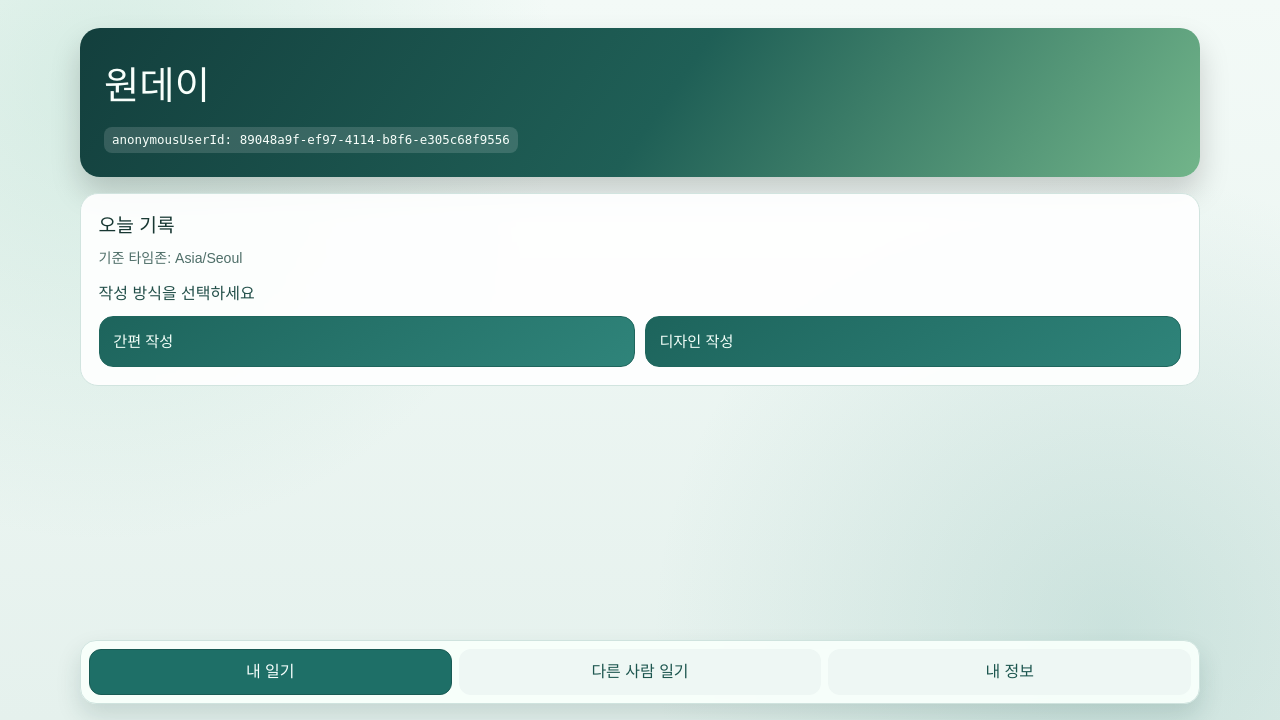
App integration › shows validation message when text is too short
Click the button "간편 작성".
click(143, 341)  # box [99,316,635,367]
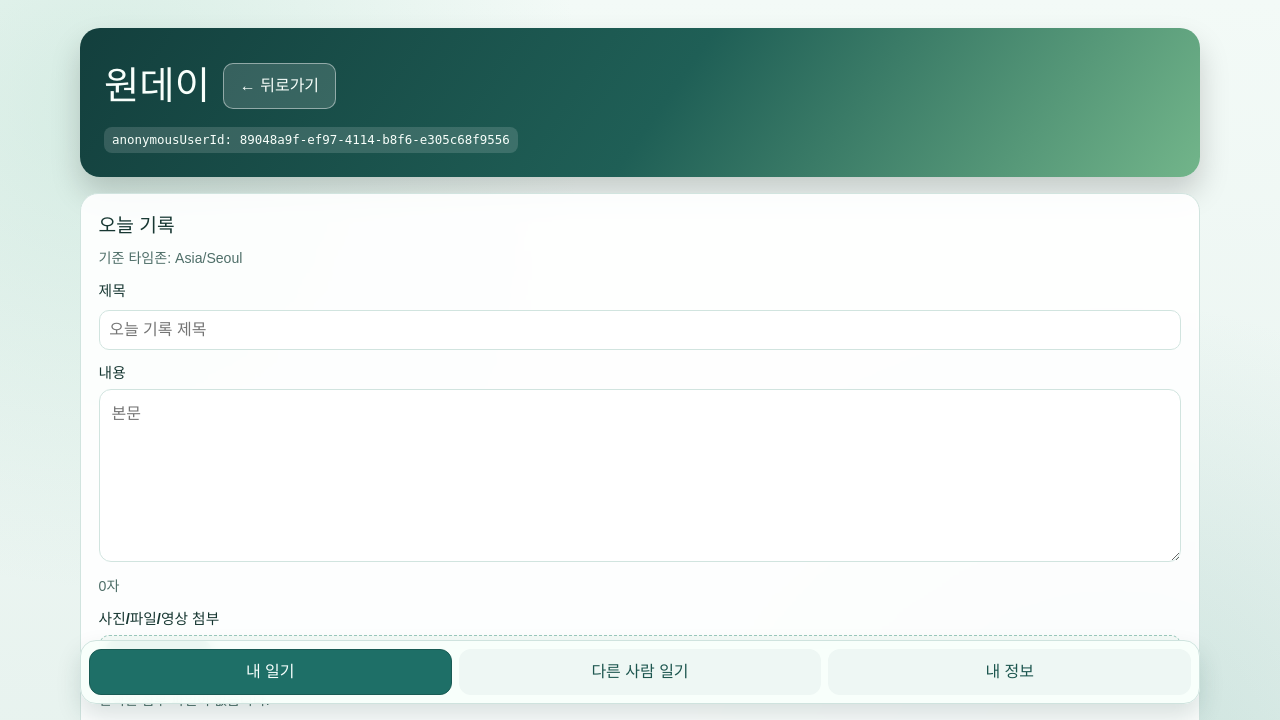
Type "짧다" into the text box labelled "내용".
click(640, 475); type("짧다")  # box [99,389,1181,562]
(page scrolled)
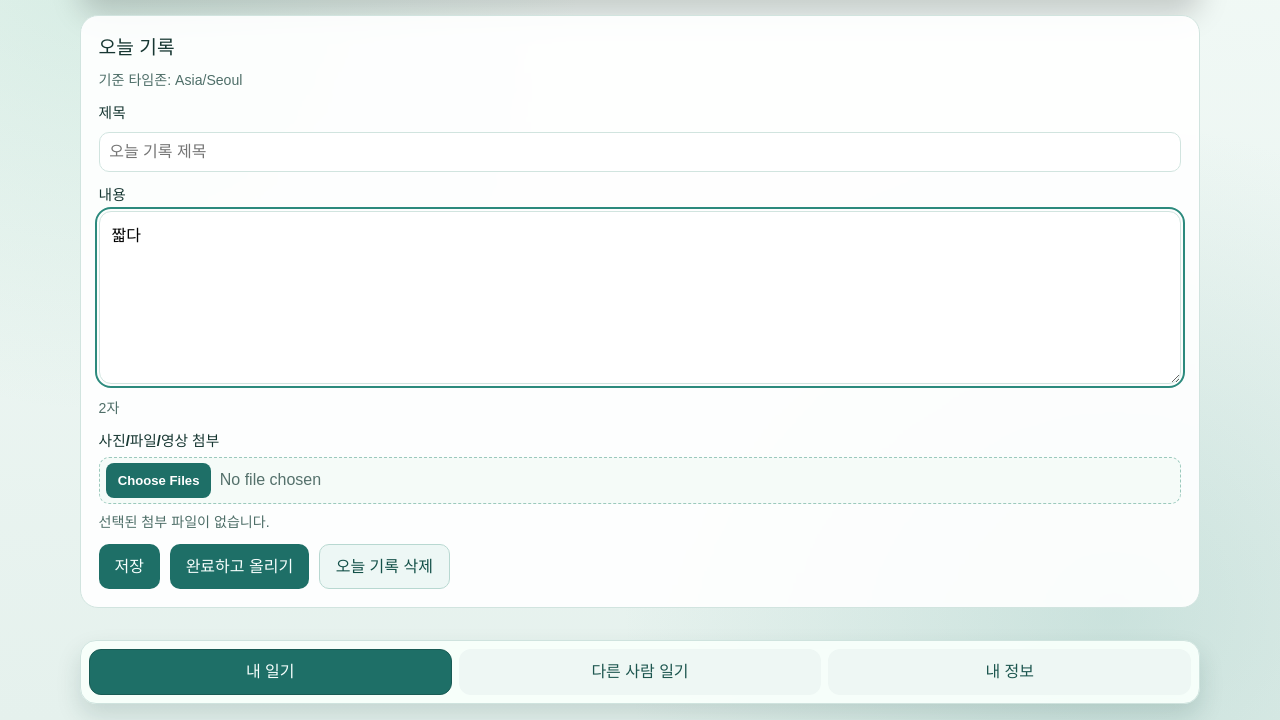
Click the button "저장".
click(129, 566)  # box [99,544,160,590]
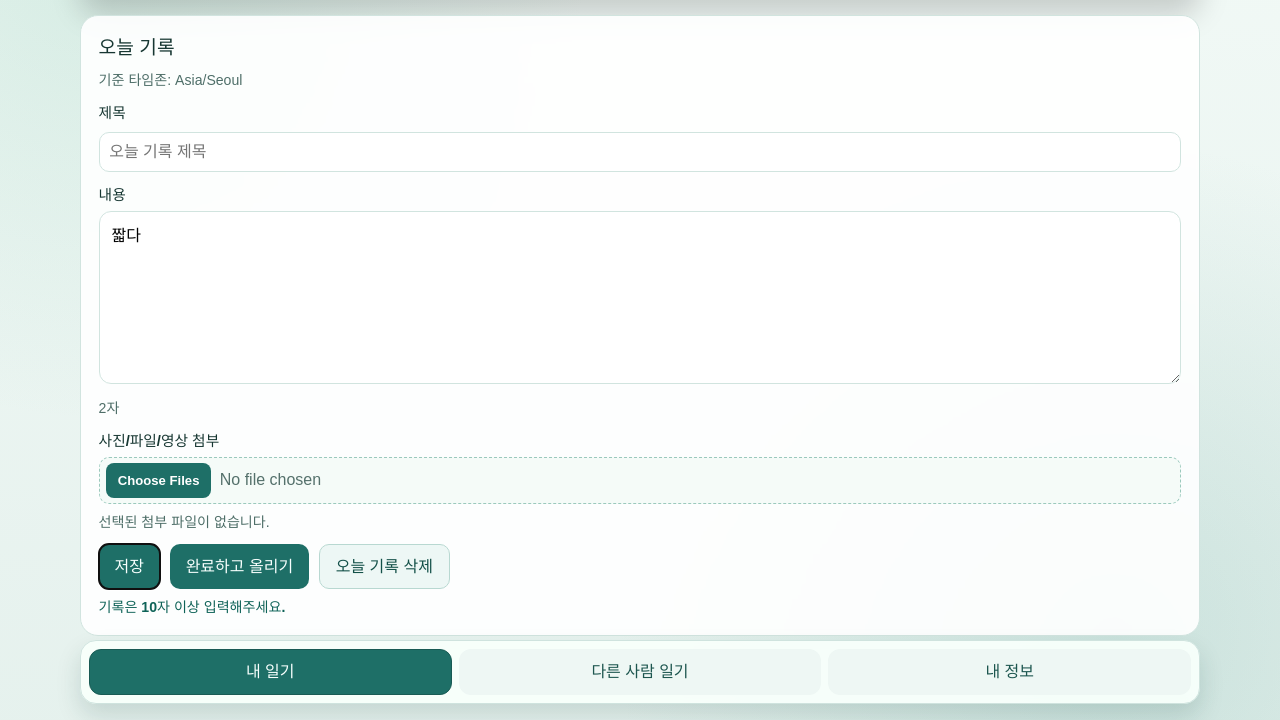
Check: the text "기록은 10자 이상 입력해주세요." is shown, box [99,600,285,616]
